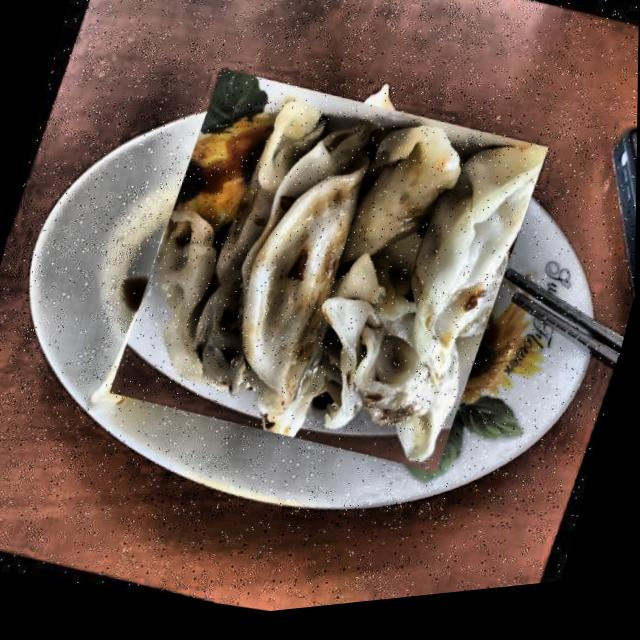Food: (100, 37, 557, 515)
